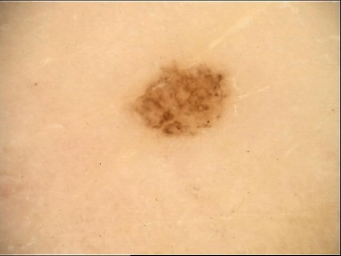nevus: (132, 66, 222, 139)
